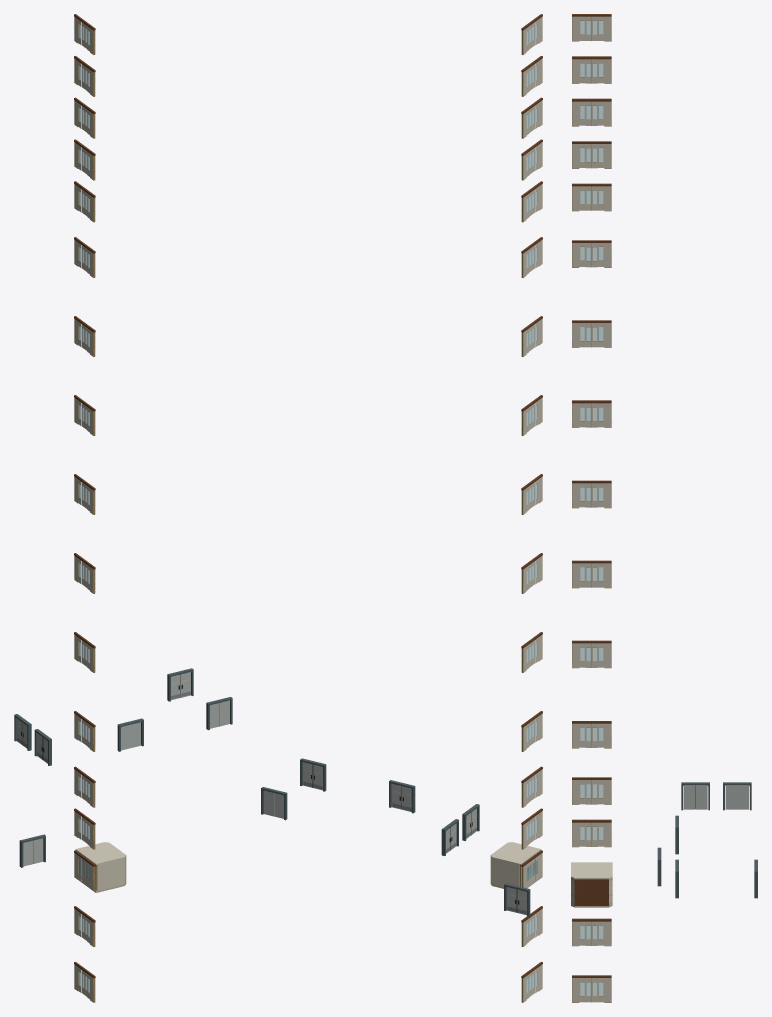
Rendered from AST-STF-G3-042.glb.
The picture shows the model from 3 angles, left to right: view 1: azimuth 30°, elevation 25°; view 2: azimuth 150°, elevation 25°; view 3: azimuth 270°, elevation 25°; orthographic projection.
Visible parts, largest first — view 1: SourceCabinAtD03__CAB_ivory_enamel; view 2: SourceCabinAtD03__CAB_ivory_enamel; view 3: SourceCabinAtD03__CAB_ivory_enamel, SourceCabinAtD03__CAB_warm_walnut.
Part boxes in pixels (box(x1,y1,x2,y2)): SourceCabinAtD03__CAB_ivory_enamel: box(75, 842, 126, 890); SourceCabinAtD03__CAB_ivory_enamel: box(490, 842, 541, 887); SourceCabinAtD03__CAB_ivory_enamel: box(571, 862, 612, 905); SourceCabinAtD03__CAB_warm_walnut: box(574, 879, 608, 905).
Bounding box in the file's own units: 24.76 × 105 × 17.98.
Materials: 16 (14 with a texture image).
